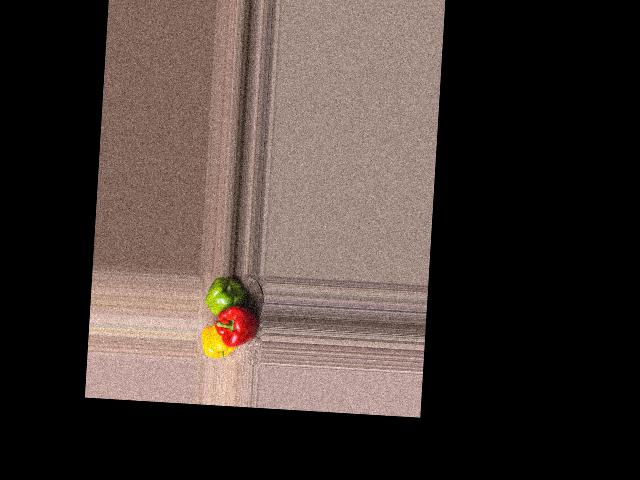bell_pepper: (198, 325, 237, 359)
